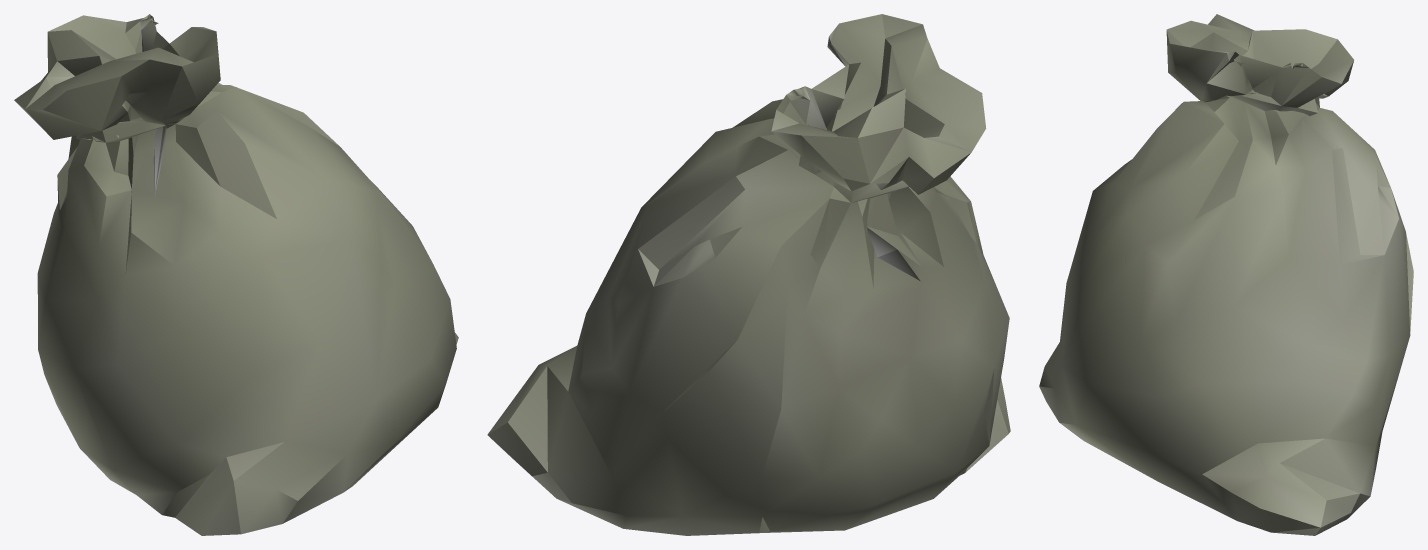
File: Sack02.fbx
3 views of the same model, side by side, from view 1: azimuth 30°, elevation 25°; view 2: azimuth 150°, elevation 25°; view 3: azimuth 270°, elevation 25° (orthographic). The views are drawn at different scales.
Parts seen in each view (by area): view 1: Sack2; view 2: Sack2; view 3: Sack2.
Part boxes in pixels (<box>): Sack2: <box>14,14,458,535</box>; Sack2: <box>487,14,1010,535</box>; Sack2: <box>1039,14,1413,535</box>.
Size of the model in its own units: 57.7 by 57.44 by 49.74.
